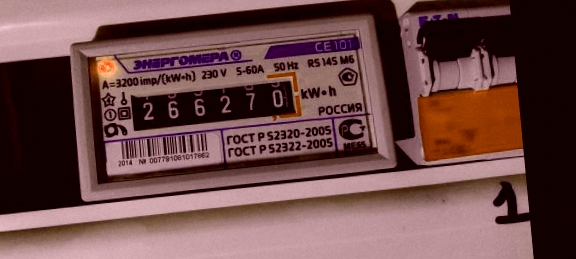0: (270, 87, 285, 108)
2: (140, 100, 157, 121), (218, 93, 233, 114)
6: (166, 98, 181, 120), (193, 96, 208, 117)
7: (243, 91, 257, 111)
screen: (120, 68, 308, 138)
